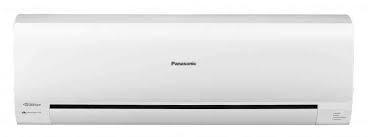ac: (9, 12, 358, 130)
